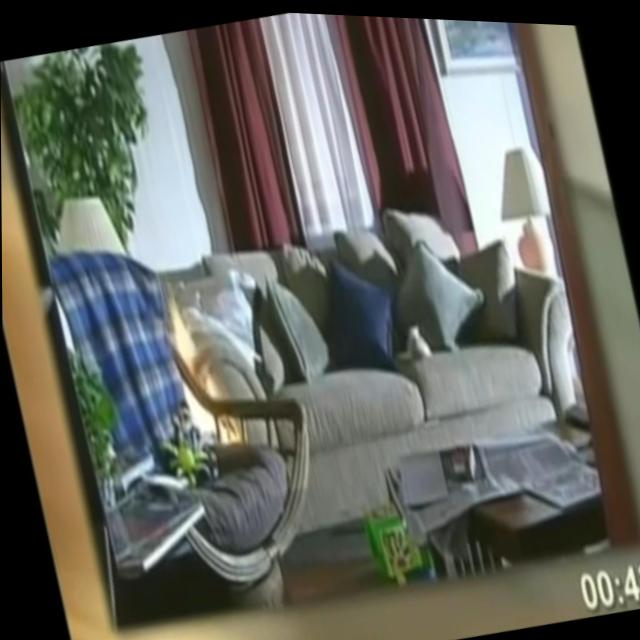fire: (160, 284, 242, 456)
